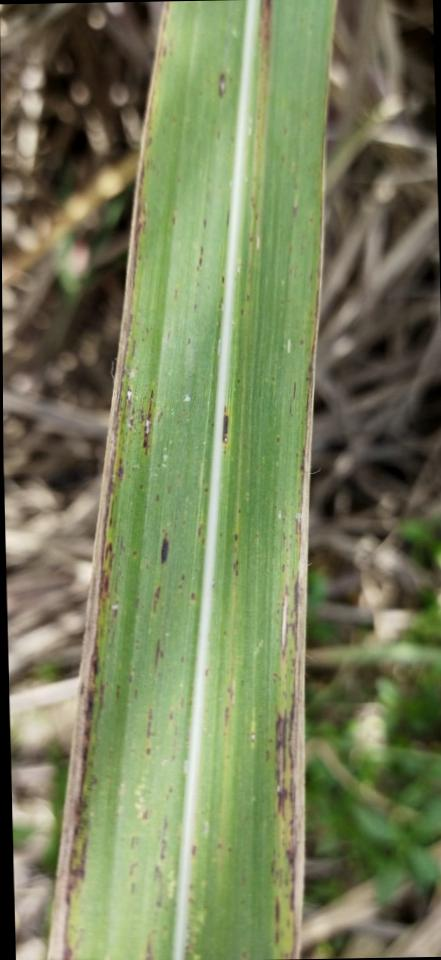Rust: (46, 1, 175, 960), (270, 292, 318, 958), (140, 809, 171, 960), (222, 684, 239, 730), (127, 860, 142, 897), (144, 702, 157, 742), (230, 530, 240, 579), (152, 635, 164, 674), (221, 404, 231, 446), (159, 530, 170, 565), (215, 69, 227, 99), (151, 582, 162, 614), (195, 245, 205, 274), (129, 833, 142, 852), (139, 806, 151, 821), (114, 682, 122, 701), (144, 744, 154, 759), (189, 843, 199, 858), (195, 526, 203, 540), (190, 590, 196, 604)
